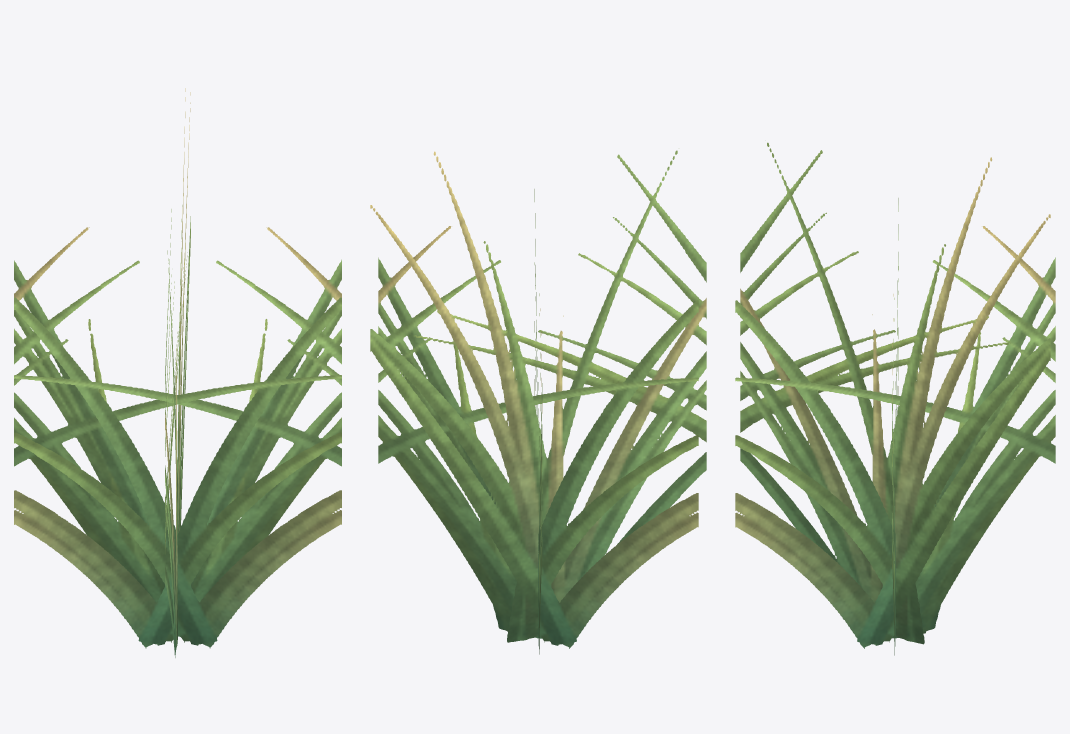
File: grass_tall.glb
3 views of the same model, side by side, from view 1: azimuth 30°, elevation 25°; view 2: azimuth 150°, elevation 25°; view 3: azimuth 270°, elevation 25° (orthographic).
Visible parts, largest first — view 1: grass_tall; view 2: grass_tall; view 3: grass_tall.
Part boxes in pixels (bbox=[...]): grass_tall: bbox=[14, 88, 341, 657]; grass_tall: bbox=[370, 150, 706, 654]; grass_tall: bbox=[735, 142, 1055, 655].
Size of the model in its own units: 0.26 by 0.42 by 0.2225.
1 material, 1 textured.
